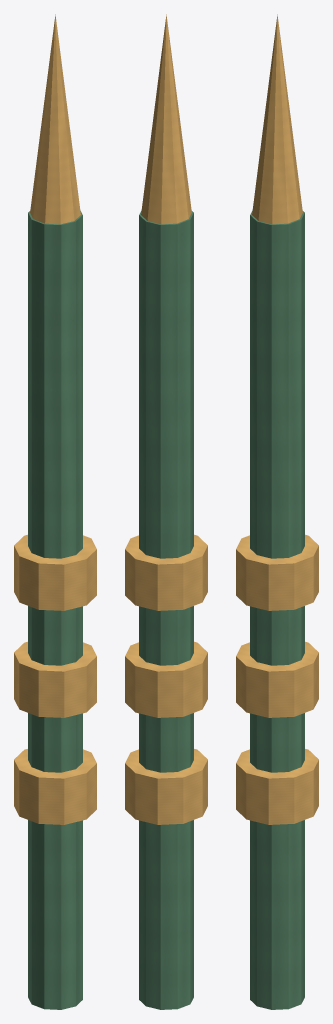
File: atlas100-s001-a05.glb
3 renders of one model, left to right at view 1: azimuth 30°, elevation 25°; view 2: azimuth 150°, elevation 25°; view 3: azimuth 330°, elevation 25°, orthographic.
Visible parts, largest first — view 1: atlas100-s001-a05:part-000, atlas100-s001-a05:part-004, atlas100-s001-a05:part-001, atlas100-s001-a05:part-002, atlas100-s001-a05:part-003; view 2: atlas100-s001-a05:part-000, atlas100-s001-a05:part-004, atlas100-s001-a05:part-001, atlas100-s001-a05:part-002, atlas100-s001-a05:part-003; view 3: atlas100-s001-a05:part-000, atlas100-s001-a05:part-004, atlas100-s001-a05:part-001, atlas100-s001-a05:part-002, atlas100-s001-a05:part-003.
Part boxes in pixels (<box>): atlas100-s001-a05:part-000: <box>28,210,82,1009</box>; atlas100-s001-a05:part-004: <box>30,14,80,224</box>; atlas100-s001-a05:part-001: <box>14,749,96,824</box>; atlas100-s001-a05:part-002: <box>14,641,96,717</box>; atlas100-s001-a05:part-003: <box>14,534,96,610</box>; atlas100-s001-a05:part-000: <box>139,210,193,1009</box>; atlas100-s001-a05:part-004: <box>141,14,191,224</box>; atlas100-s001-a05:part-001: <box>125,749,207,824</box>; atlas100-s001-a05:part-002: <box>125,641,207,717</box>; atlas100-s001-a05:part-003: <box>125,534,207,610</box>; atlas100-s001-a05:part-000: <box>250,210,304,1009</box>; atlas100-s001-a05:part-004: <box>252,14,302,224</box>; atlas100-s001-a05:part-001: <box>236,749,318,824</box>; atlas100-s001-a05:part-002: <box>236,641,318,717</box>; atlas100-s001-a05:part-003: <box>236,534,318,610</box>.
Bounding box in the file's own units: 0.1158 × 1.51 × 0.1101.
Materials: 2 (2 with a texture image).
